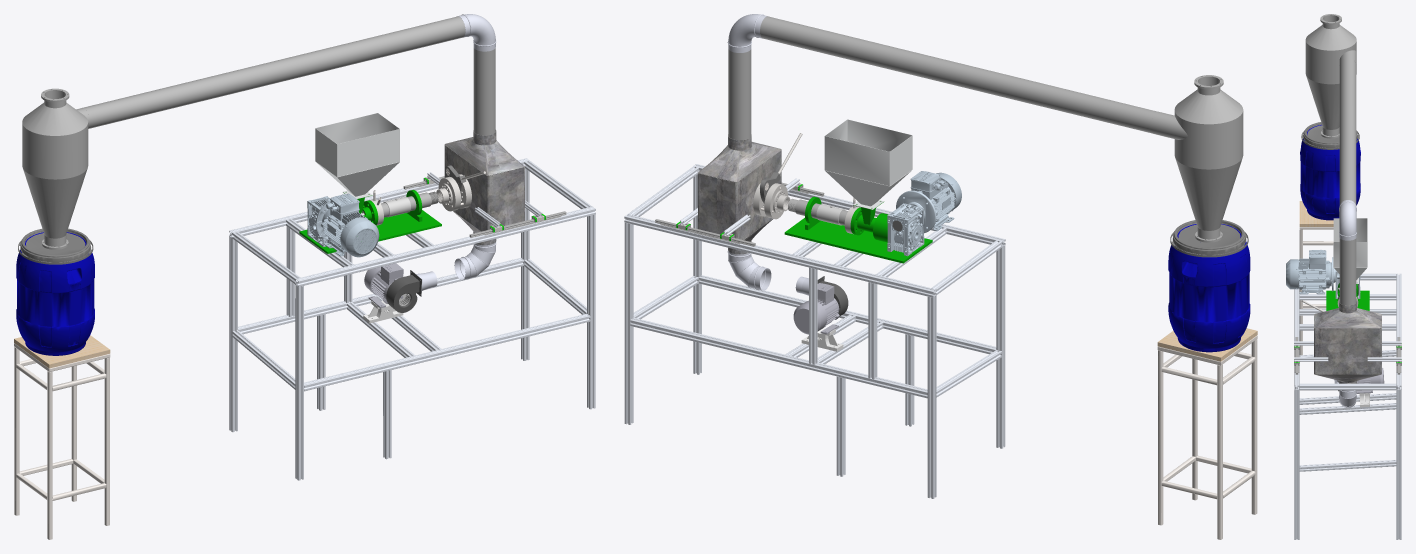
File: repel.glb
3 renders of one model, left to right at view 1: azimuth 30°, elevation 25°; view 2: azimuth 150°, elevation 25°; view 3: azimuth 270°, elevation 25°, orthographic. The views are drawn at different scales.
Parts seen in each view (by area): view 1: aluminuim profile-1, Duct2-1, 40L Barrel-1, cyclonee-1, base-1, cooling room-1, feed hopper-1, Motor-1, Horizontal duct-1, lower plate-1, blower_1tdp2_01-1, blower-1 (+3 smaller); view 2: aluminuim profile-1, Duct2-1, 40L Barrel-1, cyclonee-1, base-1, cooling room-1, feed hopper-1, Aluminum Worm Gear Reducer-1, lower plate-1, Horizontal duct-1, Motor-1, blower-1 (+2 smaller); view 3: aluminuim profile-1, cooling room-1, cyclonee-1, 40L Barrel-1, Duct2-1, Motor-1, Horizontal duct-1, base-1, feed hopper-1, coude_cintre_90_100-1, lower plate-1, coude_segment_90_100-1 (+4 smaller).
Part boxes in pixels (<box>): aluminuim profile-1: <box>229,158,595,480</box>; Duct2-1: <box>82,16,465,128</box>; 40L Barrel-1: <box>16,228,94,355</box>; cyclonee-1: <box>22,88,89,249</box>; base-1: <box>14,335,110,539</box>; cooling room-1: <box>444,129,524,245</box>; feed hopper-1: <box>315,113,399,198</box>; Motor-1: <box>320,193,379,257</box>; Horizontal duct-1: <box>473,48,495,135</box>; lower plate-1: <box>299,210,441,253</box>; blower_1tdp2_01-1: <box>386,270,421,312</box>; blower-1: <box>364,263,403,308</box>; aluminuim profile-1: <box>624,164,1005,498</box>; Duct2-1: <box>760,16,1157,133</box>; 40L Barrel-1: <box>1168,220,1250,352</box>; cyclonee-1: <box>1150,75,1243,242</box>; base-1: <box>1157,328,1257,539</box>; cooling room-1: <box>698,134,781,254</box>; feed hopper-1: <box>824,119,912,209</box>; Aluminum Worm Gear Reducer-1: <box>887,190,936,256</box>; lower plate-1: <box>784,218,932,263</box>; Horizontal duct-1: <box>728,49,751,140</box>; Motor-1: <box>910,171,961,231</box>; blower-1: <box>793,283,839,334</box>; aluminuim profile-1: <box>1294,273,1401,539</box>; cooling room-1: <box>1314,301,1381,383</box>; cyclonee-1: <box>1305,14,1356,138</box>; 40L Barrel-1: <box>1300,122,1360,220</box>; Duct2-1: <box>1339,58,1356,204</box>; Motor-1: <box>1286,250,1331,294</box>; Horizontal duct-1: <box>1339,238,1356,305</box>; base-1: <box>1299,201,1333,355</box>; feed hopper-1: <box>1333,218,1367,283</box>; coude_cintre_90_100-1: <box>1339,200,1356,240</box>; lower plate-1: <box>1326,290,1369,310</box>; coude_segment_90_100-1: <box>1339,390,1356,407</box>.
Bounding box in the file's own units: 2.89 × 2.13 × 0.6809.
43 materials, 2 textured.
